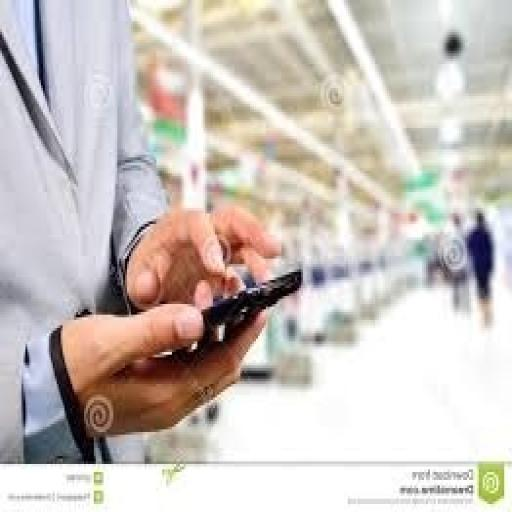texting: (0, 0, 283, 461)
